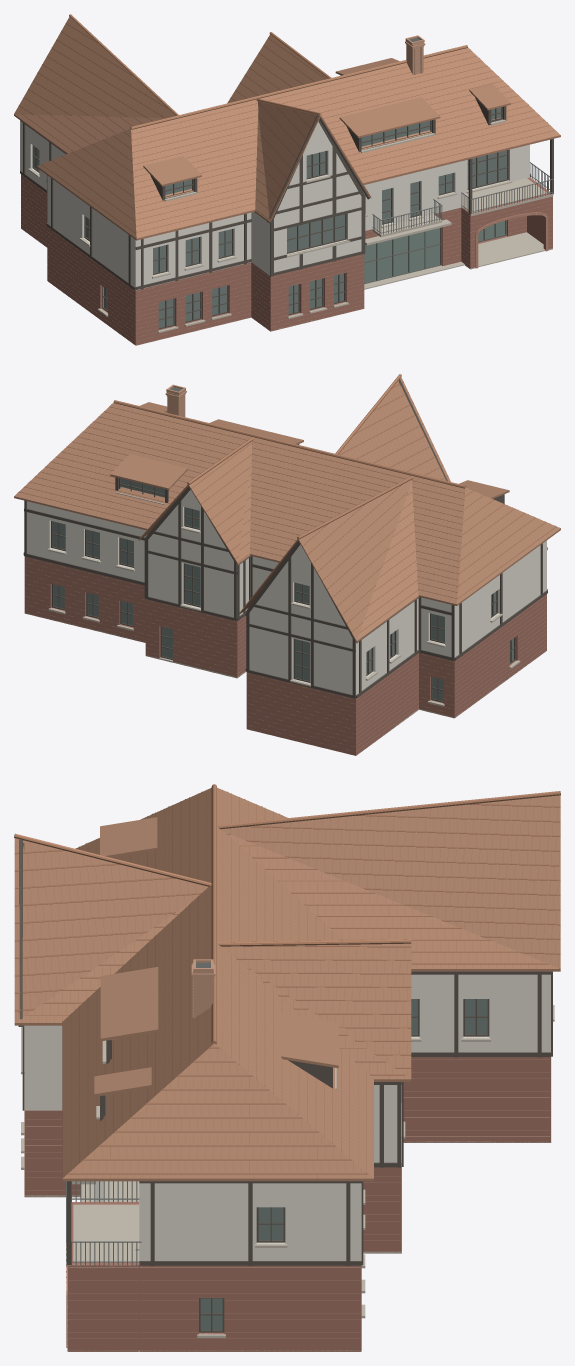
File: changning-xinhua-road-315-garden-house-raw.glb
3 views of the same model, one above another, from view 1: azimuth 30°, elevation 25°; view 2: azimuth 150°, elevation 25°; view 3: azimuth 270°, elevation 25° (orthographic). The views are drawn at different scales.
Visible parts, largest first — view 1: 新华路315号花园住宅; view 2: 新华路315号花园住宅; view 3: 新华路315号花园住宅.
Part boxes in pixels (x1,y1,x2,y2): 新华路315号花园住宅: [14, 14, 560, 345]; 新华路315号花园住宅: [14, 374, 560, 755]; 新华路315号花园住宅: [14, 784, 560, 1351].
Size of the model in its own units: 30.84 by 14.53 by 21.99.
